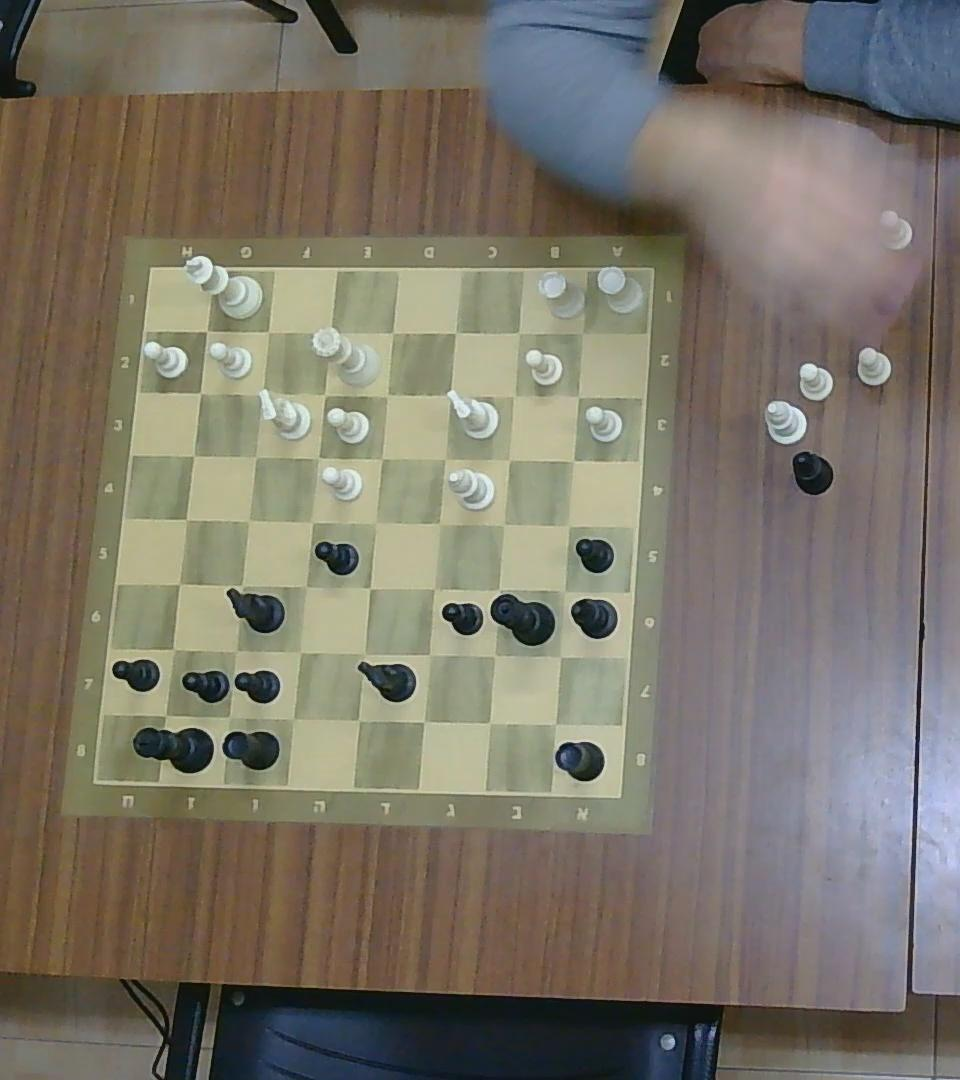xcorner: (215, 703, 242, 730), (477, 709, 503, 735), (280, 705, 305, 732), (160, 636, 185, 663), (153, 701, 178, 726), (346, 707, 370, 733), (412, 709, 436, 734), (541, 712, 567, 735), (549, 644, 573, 668), (288, 640, 311, 665), (482, 642, 505, 667), (491, 512, 514, 536), (174, 507, 197, 531), (167, 572, 191, 595), (419, 642, 442, 666), (229, 573, 252, 597), (318, 320, 341, 344), (427, 511, 450, 534), (352, 641, 375, 664), (487, 577, 510, 600), (224, 639, 246, 663), (196, 318, 218, 342), (363, 511, 385, 534), (245, 445, 267, 468), (422, 577, 444, 600), (438, 383, 460, 406), (182, 444, 204, 466), (562, 449, 584, 471), (359, 576, 381, 598), (237, 508, 258, 531), (371, 447, 392, 470), (258, 319, 279, 342), (301, 509, 321, 533), (568, 384, 590, 405), (444, 321, 465, 343), (381, 321, 402, 343), (251, 382, 272, 404), (498, 449, 518, 471), (558, 513, 578, 535), (295, 576, 315, 598), (434, 448, 454, 469), (553, 581, 573, 602), (376, 384, 396, 405), (189, 382, 209, 403), (508, 322, 528, 342), (315, 384, 334, 405), (308, 447, 327, 467), (504, 386, 523, 406), (573, 322, 592, 342)
